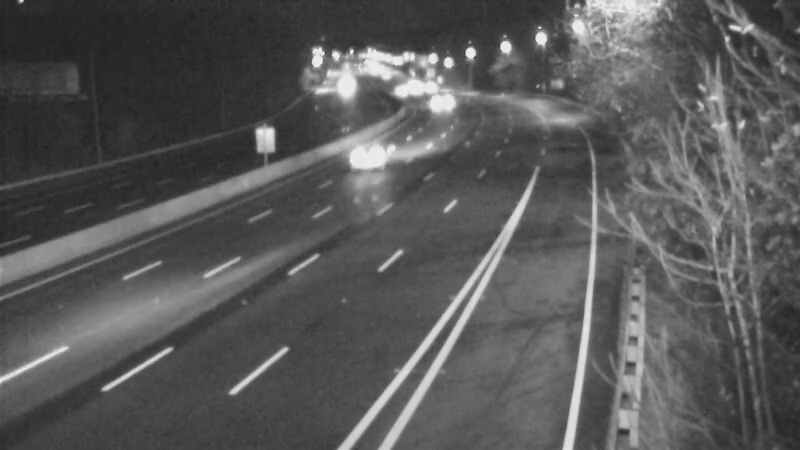vehicle: (332, 113, 412, 193), (416, 79, 466, 129)
